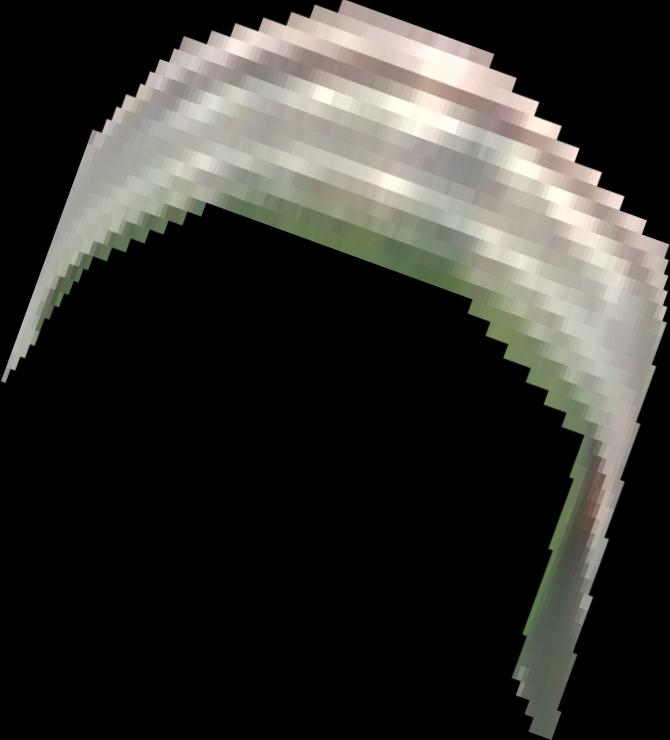head: (1, 1, 669, 740)
